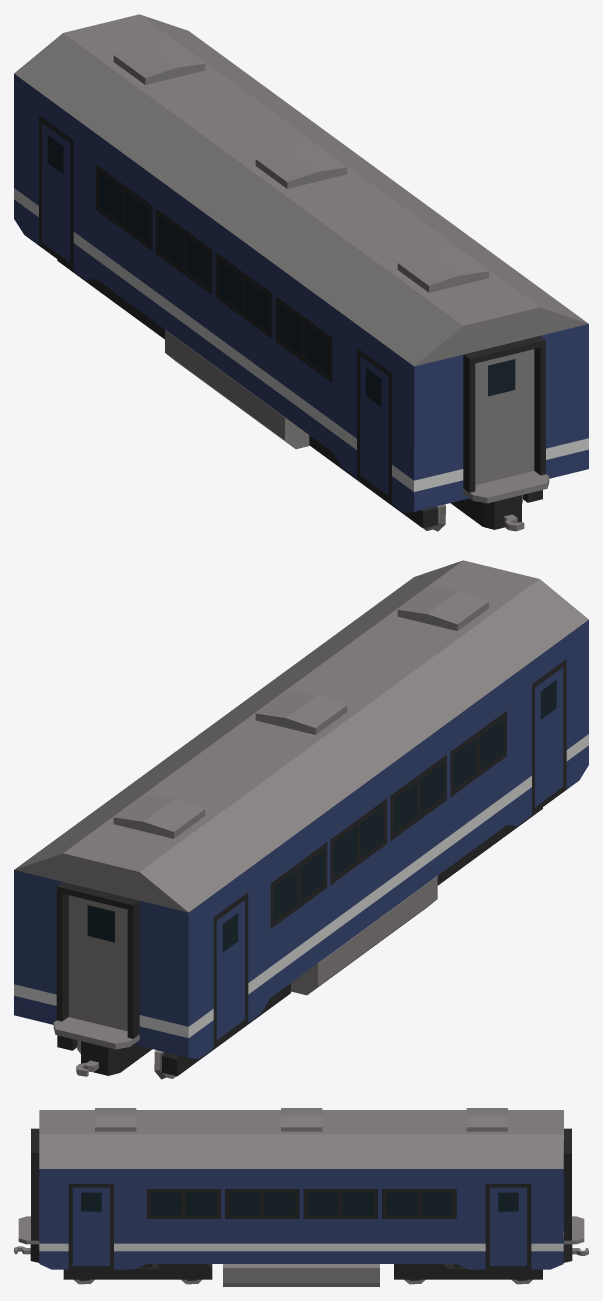
File: train-passenger-wagon.glb
3 views of the same model, one above another, from view 1: azimuth 30°, elevation 25°; view 2: azimuth 150°, elevation 25°; view 3: azimuth 270°, elevation 25° (orthographic). The views are drawn at different scales.
Parts seen in each view (by area): view 1: train-passenger-wagon-base, train-passenger-wagon-wheel-frame_F, train-passenger-wagon-wheel-frame_B; view 2: train-passenger-wagon-base, train-passenger-wagon-wheel-frame_B, train-passenger-wagon-wheel-frame_F; view 3: train-passenger-wagon-base, train-passenger-wagon-wheel-frame_F, train-passenger-wagon-wheel-frame_B.
Part boxes in pixels (box(x1,y1,x2,y2)): train-passenger-wagon-base: box(14, 14, 588, 531); train-passenger-wagon-wheel-frame_F: box(309, 435, 542, 528); train-passenger-wagon-wheel-frame_B: box(57, 259, 164, 339); train-passenger-wagon-base: box(14, 560, 588, 1076); train-passenger-wagon-wheel-frame_B: box(57, 983, 290, 1076); train-passenger-wagon-wheel-frame_F: box(437, 807, 542, 885); train-passenger-wagon-base: box(14, 1108, 588, 1286); train-passenger-wagon-wheel-frame_F: box(63, 1264, 212, 1279); train-passenger-wagon-wheel-frame_B: box(394, 1264, 542, 1279).
Bounding box in the file's own units: 3.2 × 4.17 × 13.92.
1 material, 1 textured.
